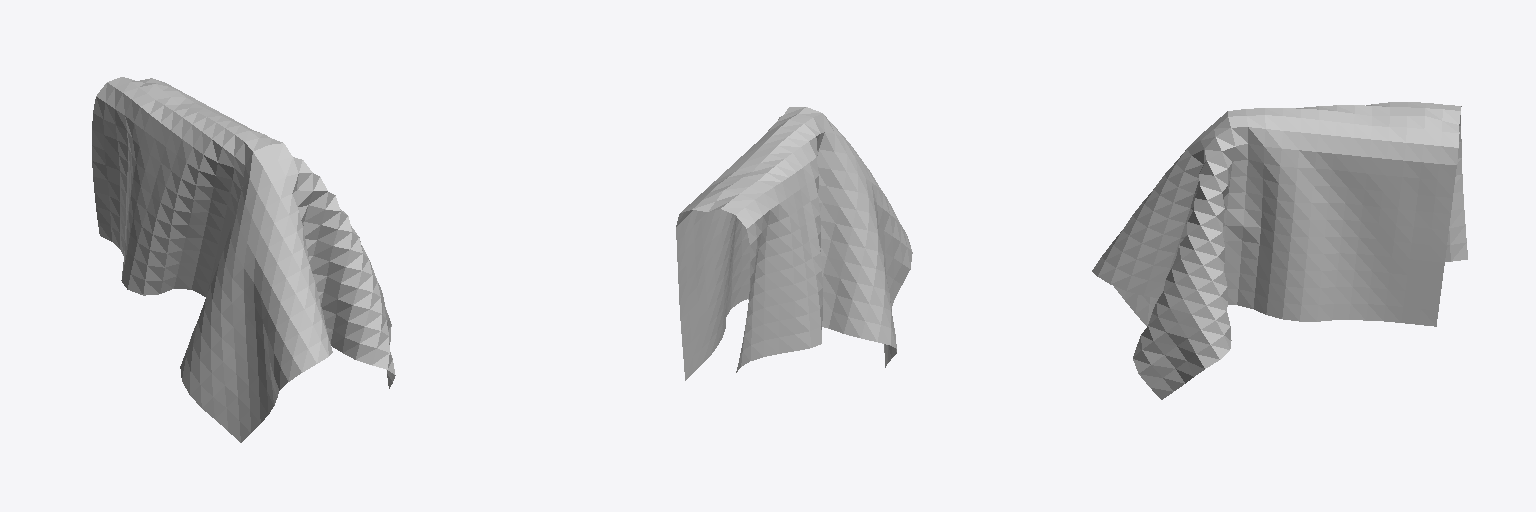
The model's file is NCloth_FishingNet.obj.
3 views of the same model, side by side, from view 1: azimuth 30°, elevation 25°; view 2: azimuth 150°, elevation 25°; view 3: azimuth 270°, elevation 25° (orthographic).
Visible parts, largest first — view 1: pPlane1; view 2: pPlane1; view 3: pPlane1.
Boxes of the visible parts, x1=… form: pPlane1: x1=92, y1=77, x2=395, y2=442; pPlane1: x1=676, y1=107, x2=912, y2=380; pPlane1: x1=1092, y1=102, x2=1467, y2=399.
Size of the model in its own units: 29.32 by 38.26 by 48.62.